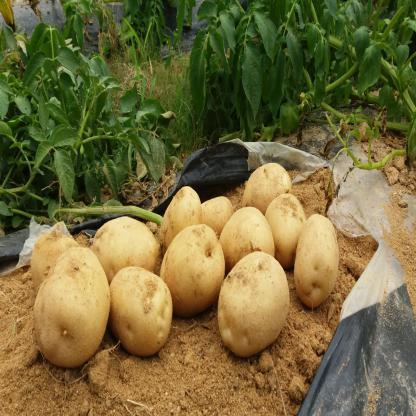potato: (199, 232, 306, 359), (27, 244, 111, 371), (92, 260, 184, 359), (234, 147, 305, 232), (147, 223, 221, 302), (250, 192, 318, 273), (222, 202, 284, 288), (293, 228, 350, 311), (163, 166, 214, 254), (93, 218, 156, 285)
